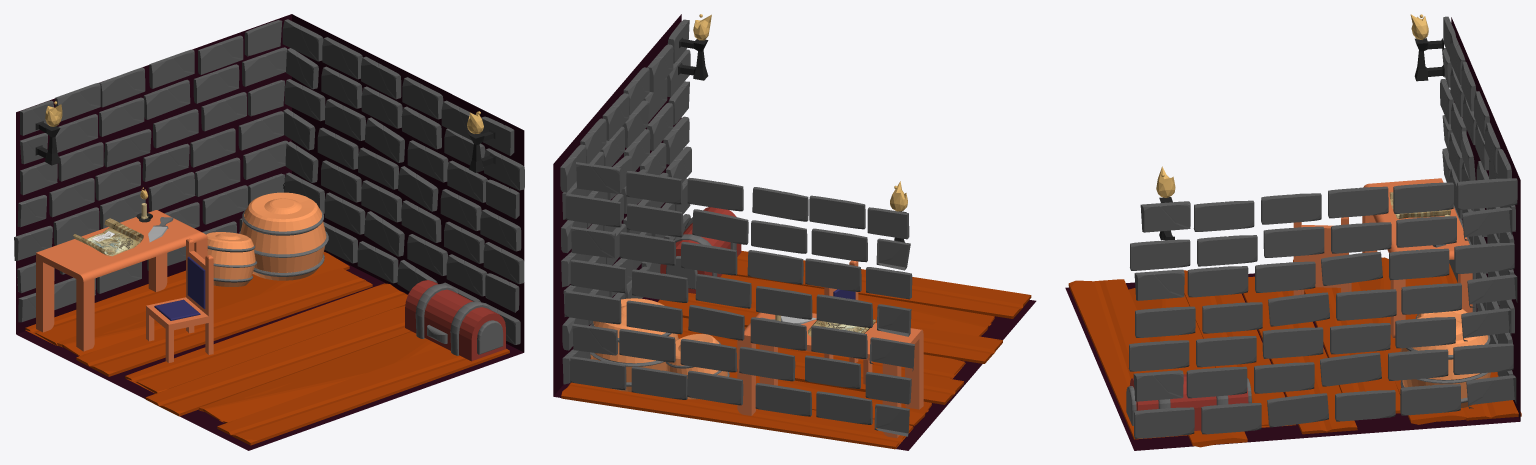
Rendered from ROOM7.glb.
The picture shows the model from 3 angles, left to right: view 1: azimuth 30°, elevation 25°; view 2: azimuth 150°, elevation 25°; view 3: azimuth 270°, elevation 25°; orthographic projection. The views are drawn at different scales.
Visible parts, largest first — view 1: Plane, Cube.104, Cube.003, Cube.002, Cube.006, Cube.004, Cylinder, Cube.005, Cube.103, Cube.007, Cube.001, Cube (+80 smaller); view 2: Cube, Plane, Cube.006, Cube.104, Cube.005, Cube.004, Cube.002, Cylinder, Cube.057, Cube.093, Cube.075, Cube.081 (+60 smaller); view 3: Plane, Cube.006, Cube.003, Cube.104, Cube.004, Cube.002, Cube.005, Cylinder, Cube.103, Cube.021, Cube.039, Cube.043 (+48 smaller).
Boxes of the visible parts, left/top/right/bottom form: Plane: left=16, top=14, right=524, bottom=450; Cube.104: left=36, top=210, right=207, bottom=351; Cube.003: left=125, top=283, right=407, bottom=393; Cube.002: left=76, top=268, right=372, bottom=376; Cube.006: left=217, top=346, right=509, bottom=445; Cube.004: left=145, top=306, right=411, bottom=416; Cylinder: left=239, top=192, right=328, bottom=280; Cube.005: left=198, top=331, right=441, bottom=423; Cube.103: left=405, top=280, right=505, bottom=361; Cube.007: left=146, top=238, right=213, bottom=362; Cube.001: left=57, top=252, right=349, bottom=356; Cube: left=25, top=270, right=215, bottom=345; Cube: left=561, top=382, right=913, bottom=449; Plane: left=553, top=14, right=1036, bottom=450; Cube.006: left=734, top=251, right=1031, bottom=318; Cube.104: left=737, top=312, right=923, bottom=438; Cube.005: left=720, top=274, right=994, bottom=336; Cube.004: left=658, top=293, right=1002, bottom=363; Cube.002: left=677, top=334, right=963, bottom=404; Cylinder: left=589, top=298, right=678, bottom=391; Cube.057: left=687, top=370, right=743, bottom=405; Cube.093: left=747, top=250, right=803, bottom=284; Cube.075: left=739, top=346, right=795, bottom=381; Cube.081: left=695, top=274, right=751, bottom=308; Plane: left=1065, top=17, right=1520, bottom=450; Cube.006: left=1068, top=279, right=1188, bottom=439; Cube.003: left=1242, top=276, right=1357, bottom=434; Cube.104: left=1362, top=178, right=1472, bottom=338; Cube.004: left=1184, top=270, right=1295, bottom=427; Cube.002: left=1293, top=259, right=1400, bottom=413; Cube.005: left=1129, top=288, right=1247, bottom=447; Cylinder: left=1400, top=312, right=1490, bottom=407; Cube.103: left=1126, top=368, right=1251, bottom=430; Cube.021: left=1262, top=327, right=1323, bottom=358; Cube.039: left=1263, top=226, right=1324, bottom=257; Cube.043: left=1187, top=266, right=1248, bottom=297.
Bounding box in the file's own units: 33.31 × 20.96 × 33.04.
Materials: 15 (1 with a texture image).
